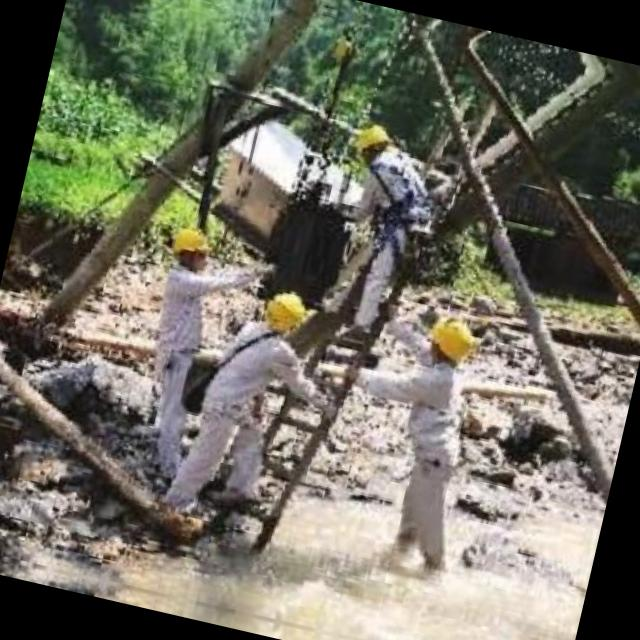helmet: (419, 309, 481, 369), (164, 218, 222, 280), (258, 282, 312, 338), (348, 116, 398, 166)
